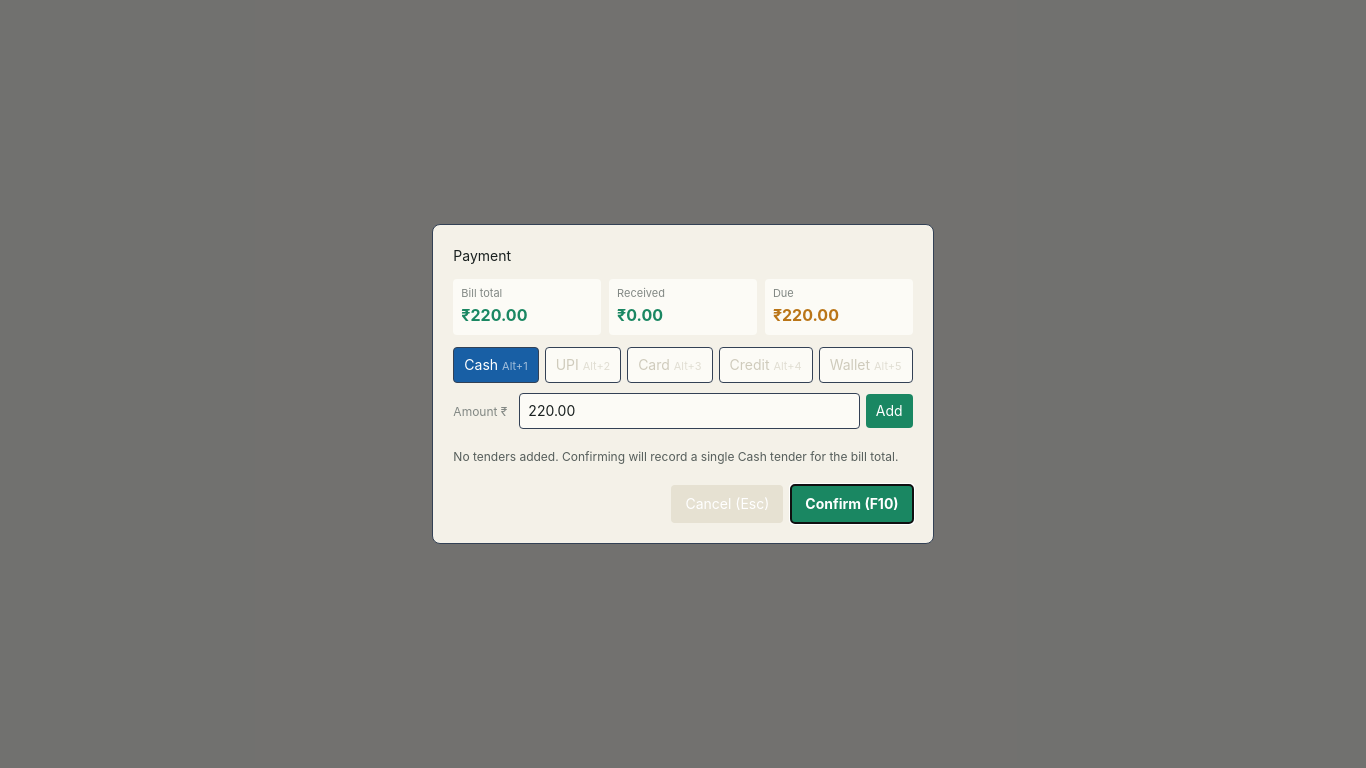
Test case: PaymentModal · split-tender flow › confirm stays disabled while tenders short of grand_total
Note: Wipe the pre-seeded amount and add only 50
Replace the text in the field with test id "tender-amount" with "50" at (690, 411), box [519,393,860,429]
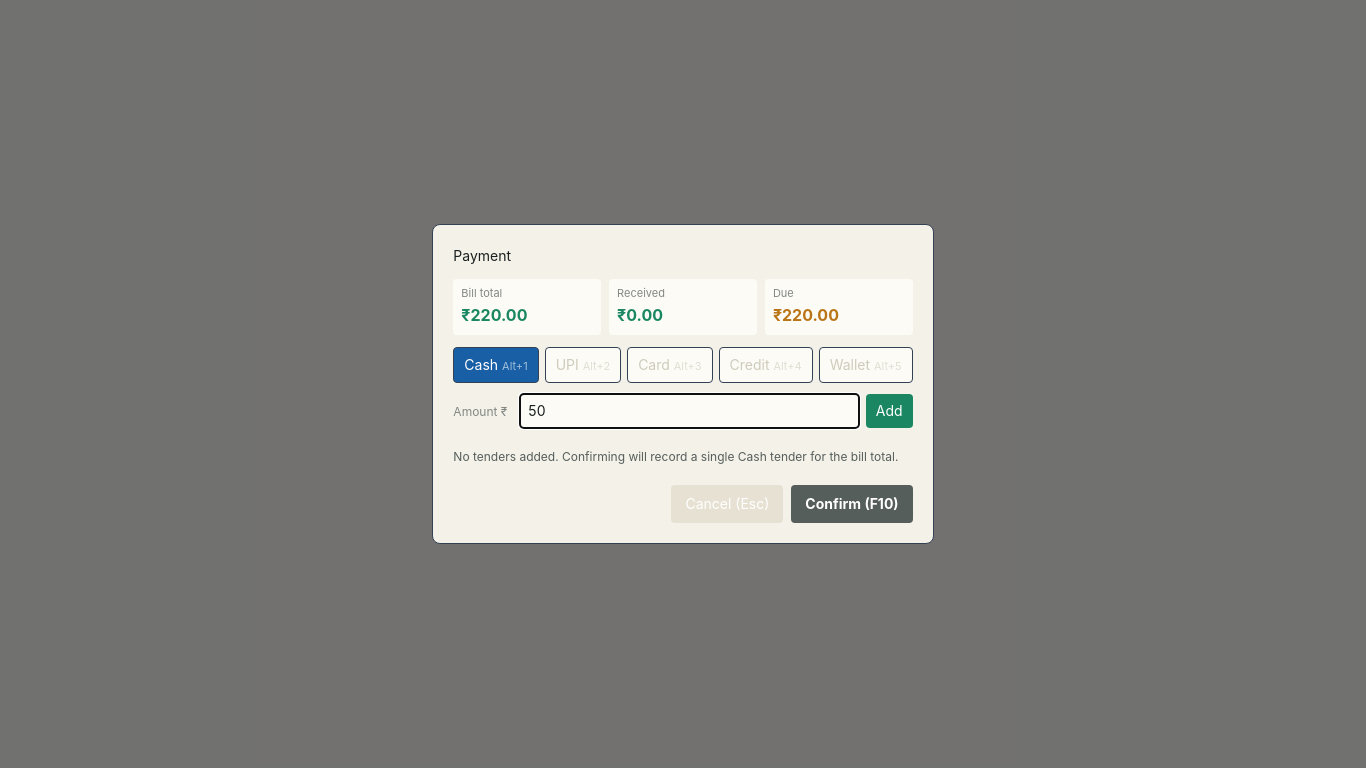
Click the button with test id "tender-add" at (889, 411), box [866,394,913,428]
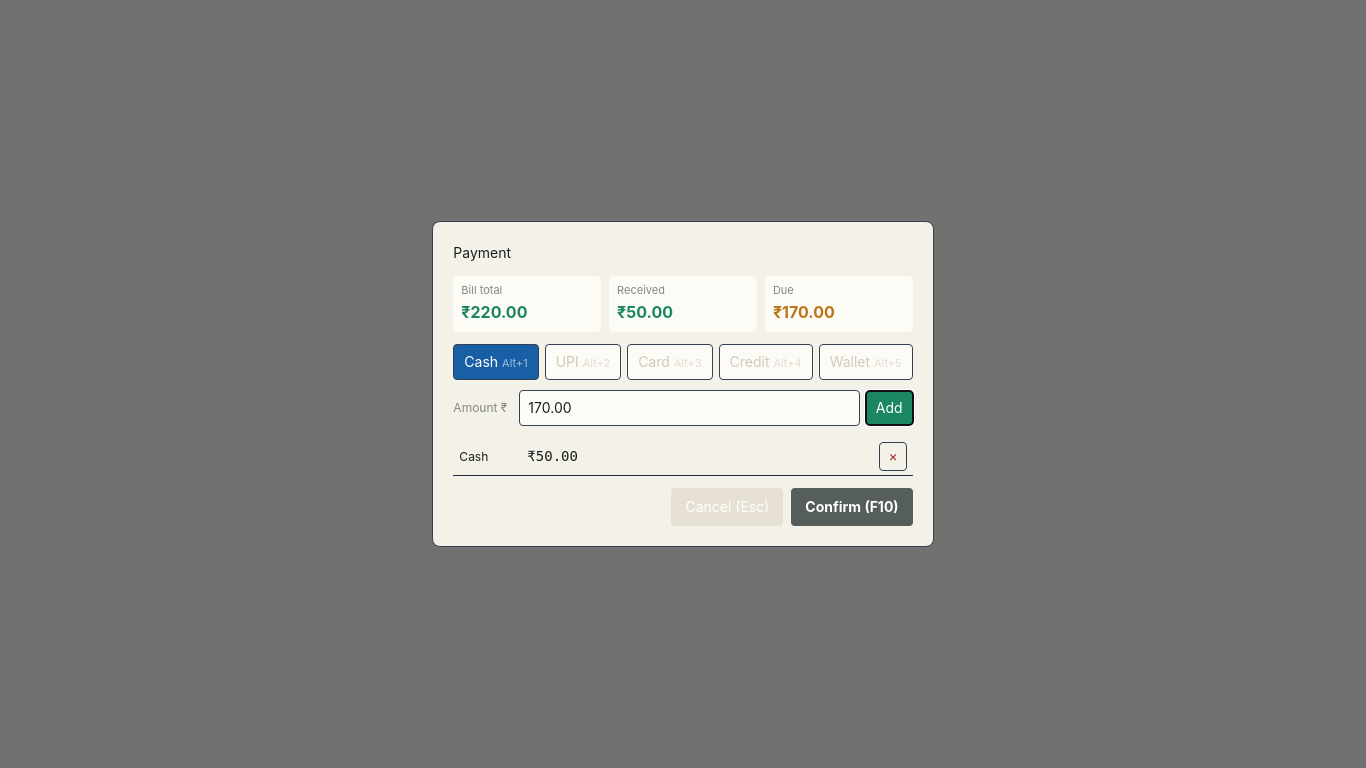
Expected: the button with test id "payment-confirm" is disabled, [791,488,913,526]
Expected: the text with test id "payment-due" reads "₹170.00", [773,302,835,322]
